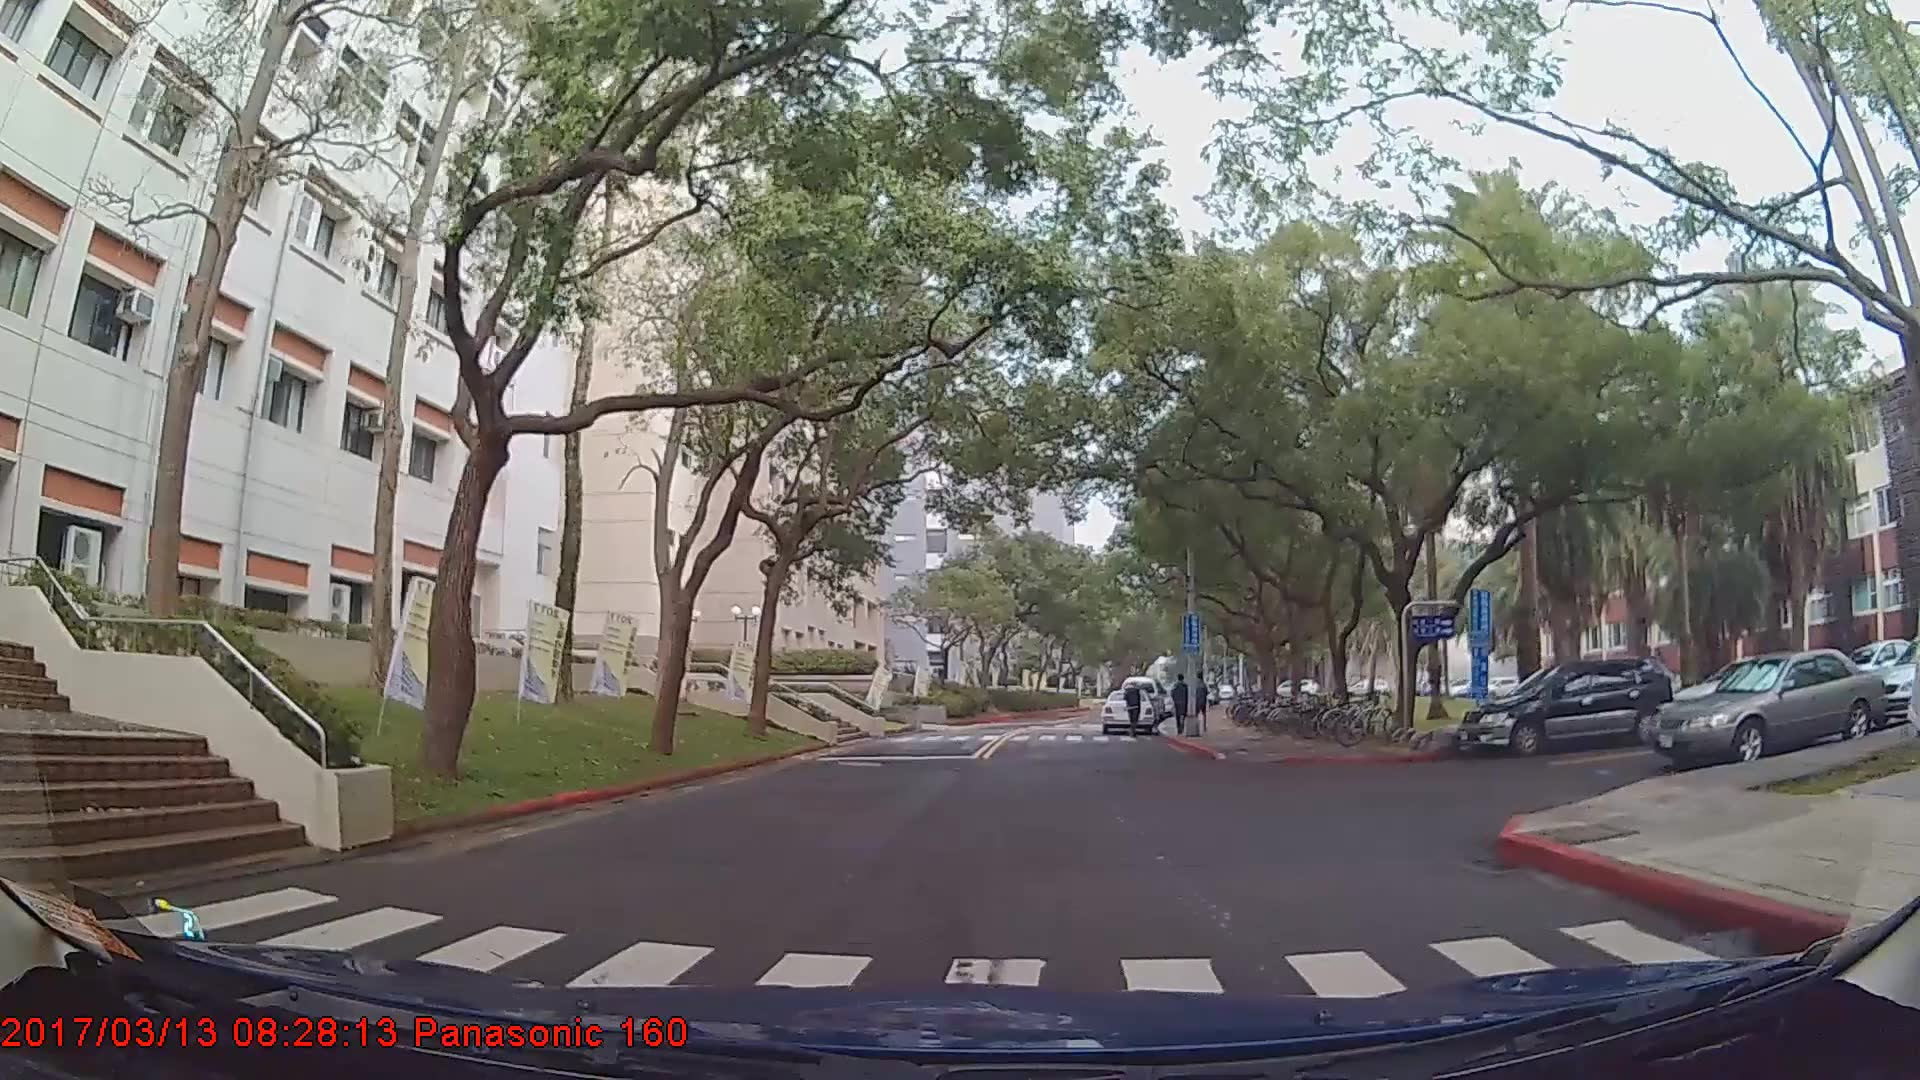pedestrian: (1124, 681, 1144, 741), (1173, 677, 1195, 733)
vehicle: (1648, 647, 1886, 767), (1458, 654, 1672, 759), (1096, 687, 1155, 733)
